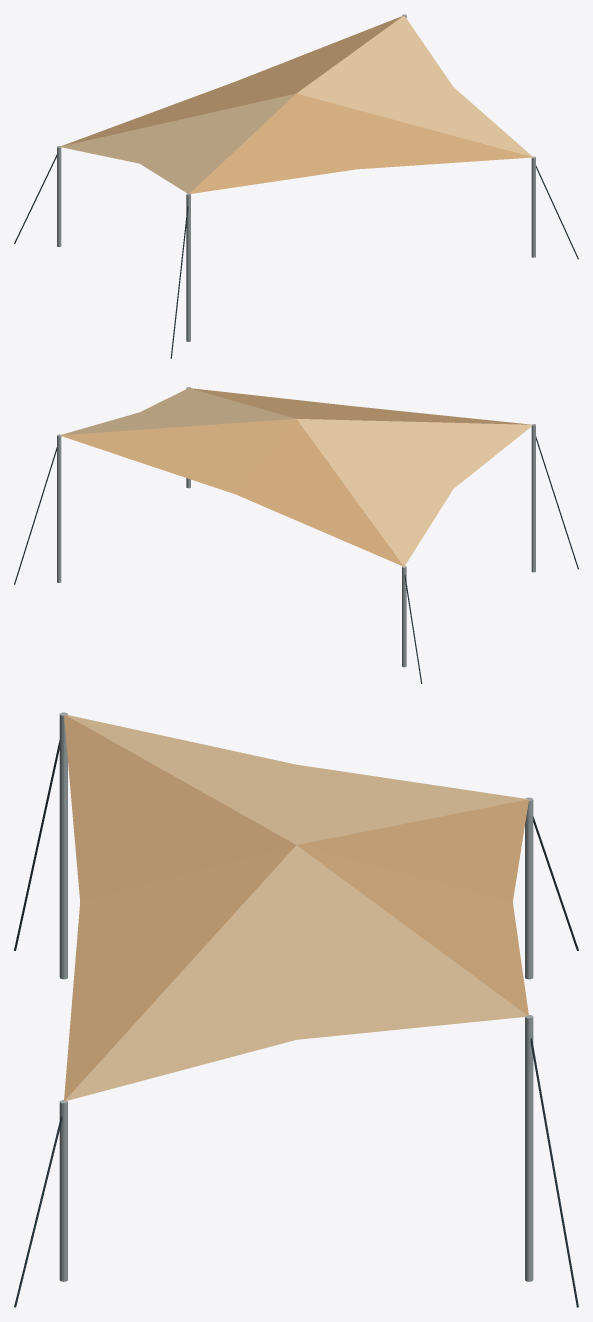
File: scendance-plan-stretch-tent.glb
3 renders of one model, top to bottom at view 1: azimuth 30°, elevation 25°; view 2: azimuth 150°, elevation 25°; view 3: azimuth 270°, elevation 25°, orthographic. The views are drawn at different scales.
Bounding box in the file's own units: 9.46 × 3.5 × 6.32.
